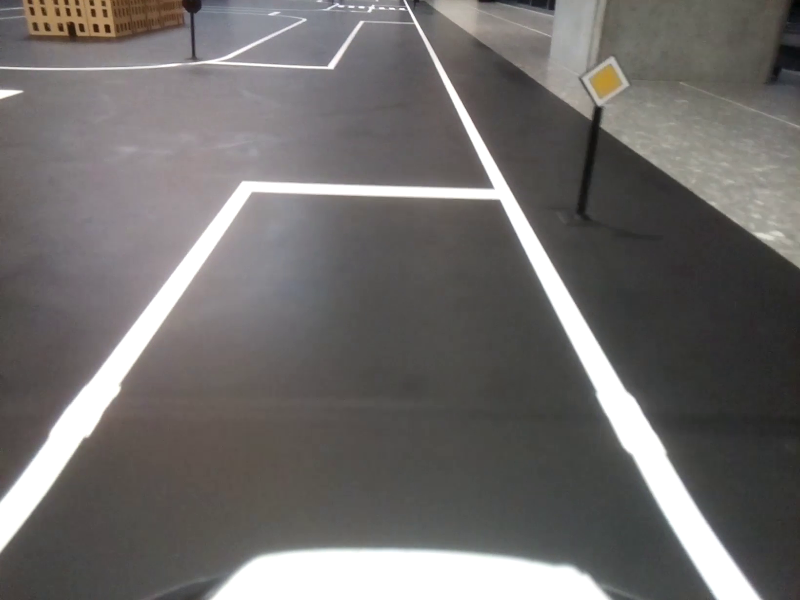priority: (577, 49, 631, 109)
